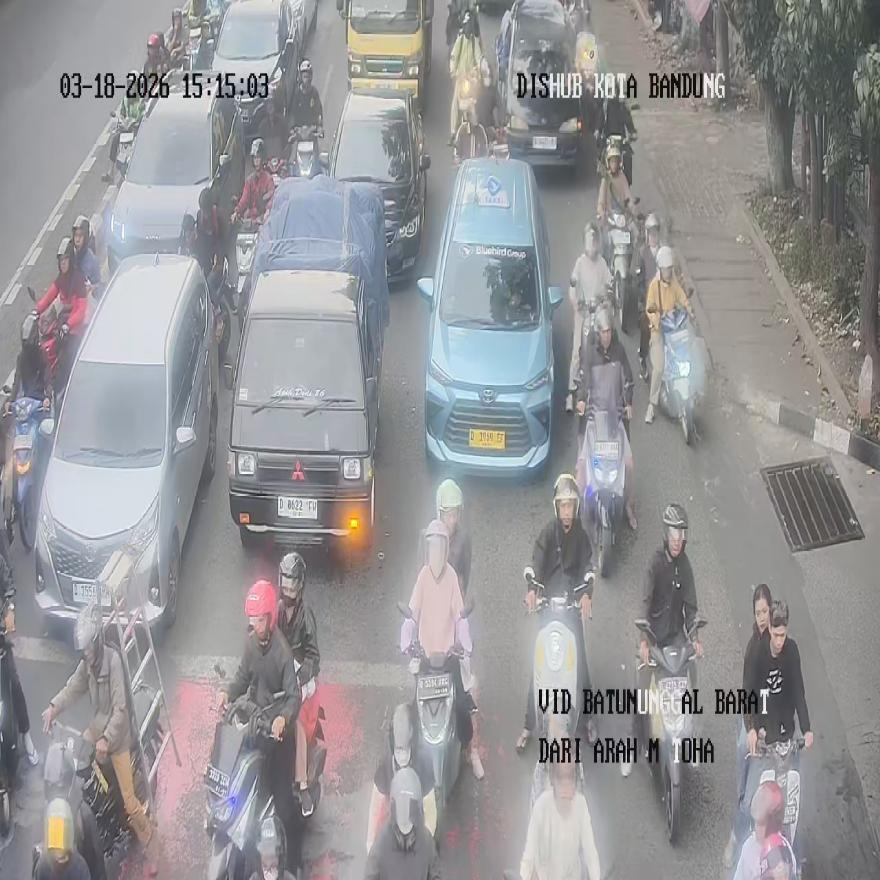Motor: (33, 253, 218, 643), (225, 177, 390, 548), (417, 156, 562, 480), (107, 72, 235, 276), (328, 81, 429, 281), (336, 0, 434, 110)
Truk: (204, 660, 325, 879), (397, 602, 474, 850), (33, 726, 150, 879), (634, 616, 704, 843), (526, 582, 592, 748), (578, 372, 631, 576), (739, 731, 804, 880), (0, 382, 54, 554), (658, 303, 698, 444), (603, 209, 637, 334), (206, 253, 233, 386), (450, 69, 482, 162), (232, 217, 260, 318), (107, 108, 138, 184), (288, 124, 326, 178), (186, 15, 213, 72)
